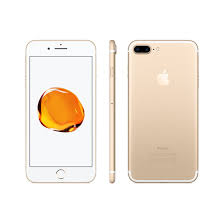iphone: (22, 37, 98, 186), (125, 37, 201, 186)
iphone7: (125, 38, 201, 187), (22, 37, 98, 186)
